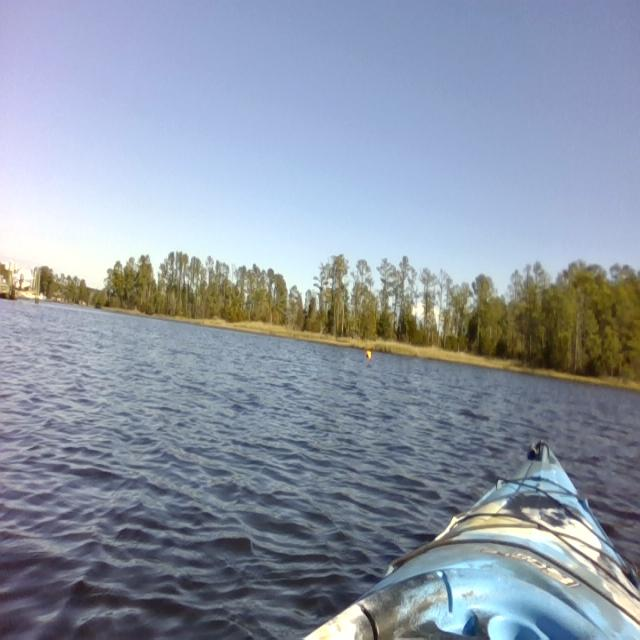Buoy: (362, 343, 376, 368)
